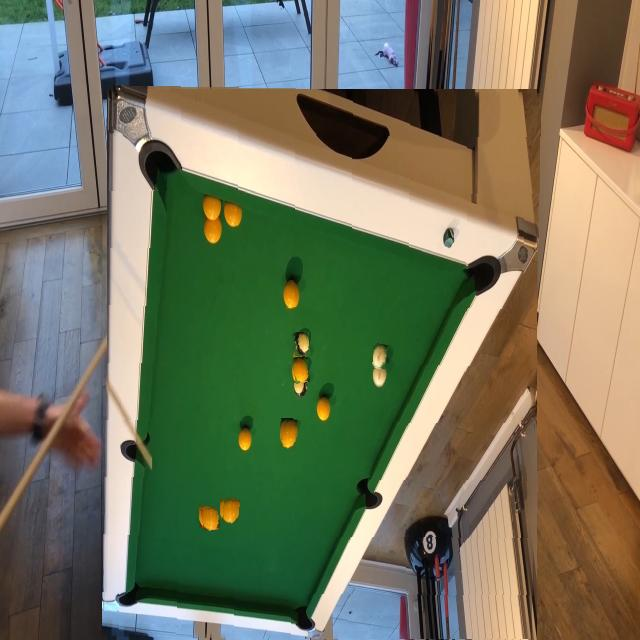Ball: (280, 418, 300, 450), (201, 506, 220, 531), (202, 483, 220, 509), (292, 357, 309, 384), (222, 500, 240, 524), (317, 308, 332, 334), (373, 343, 388, 369), (294, 332, 310, 356), (240, 277, 254, 301)
Billiard table: (104, 87, 539, 640)
